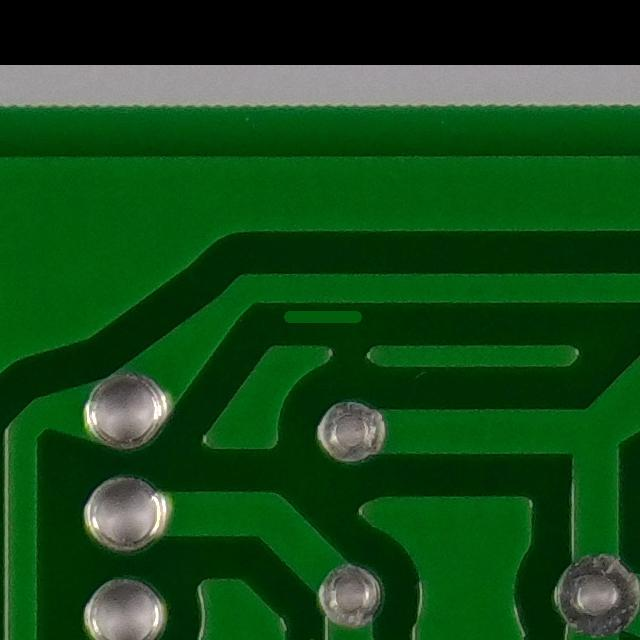spurious_copper: (266, 296, 375, 344)
